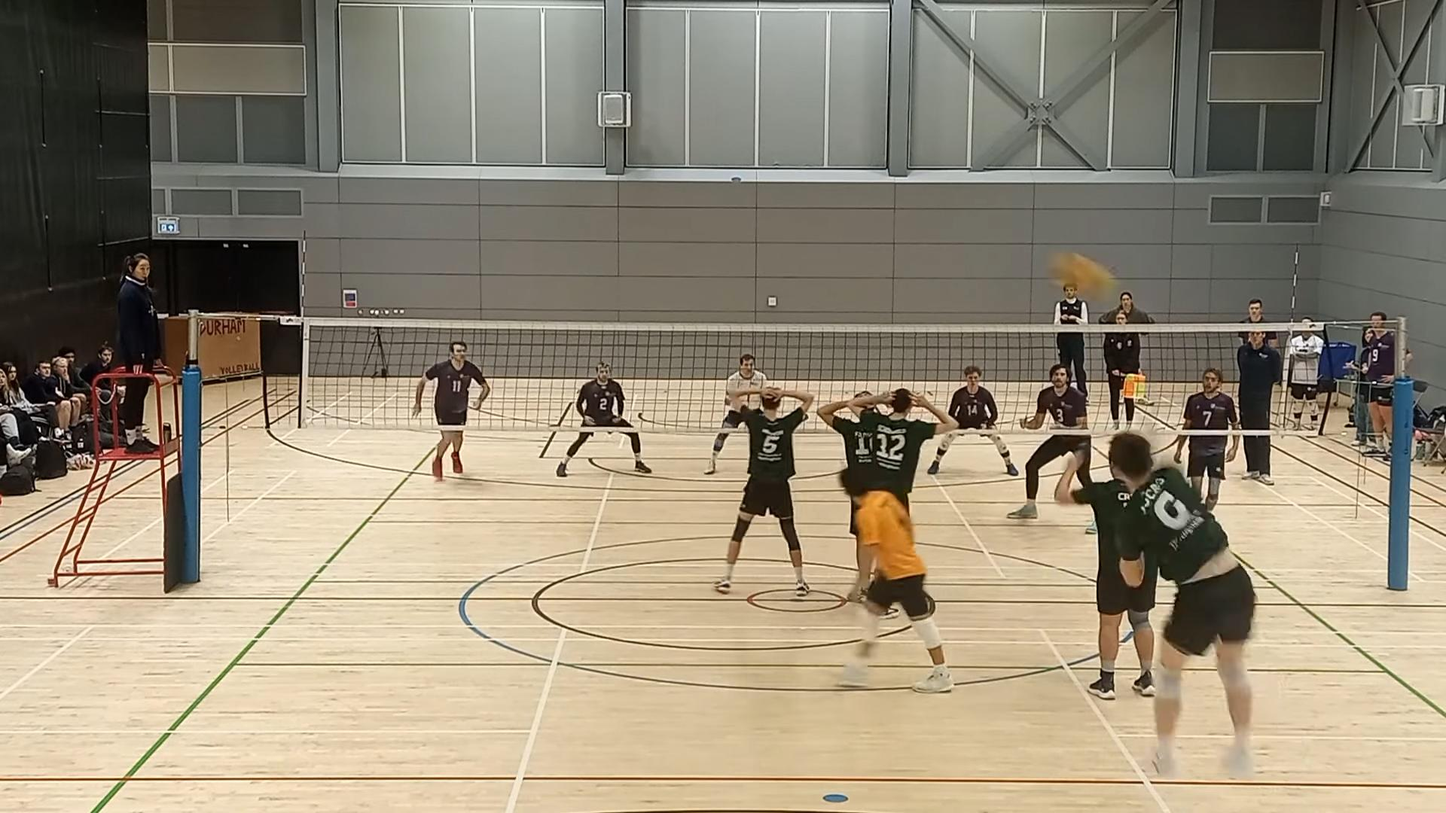battuta: (1102, 429, 1262, 780)
